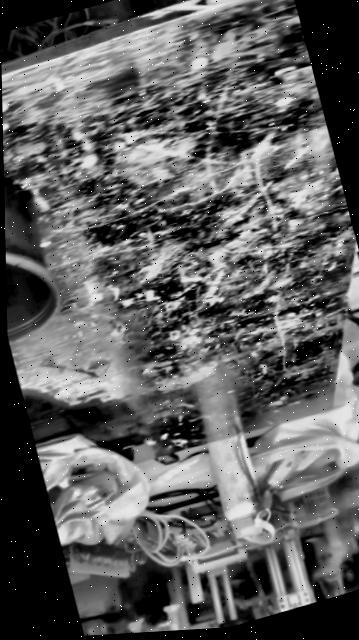pot: (4, 160, 65, 341)
